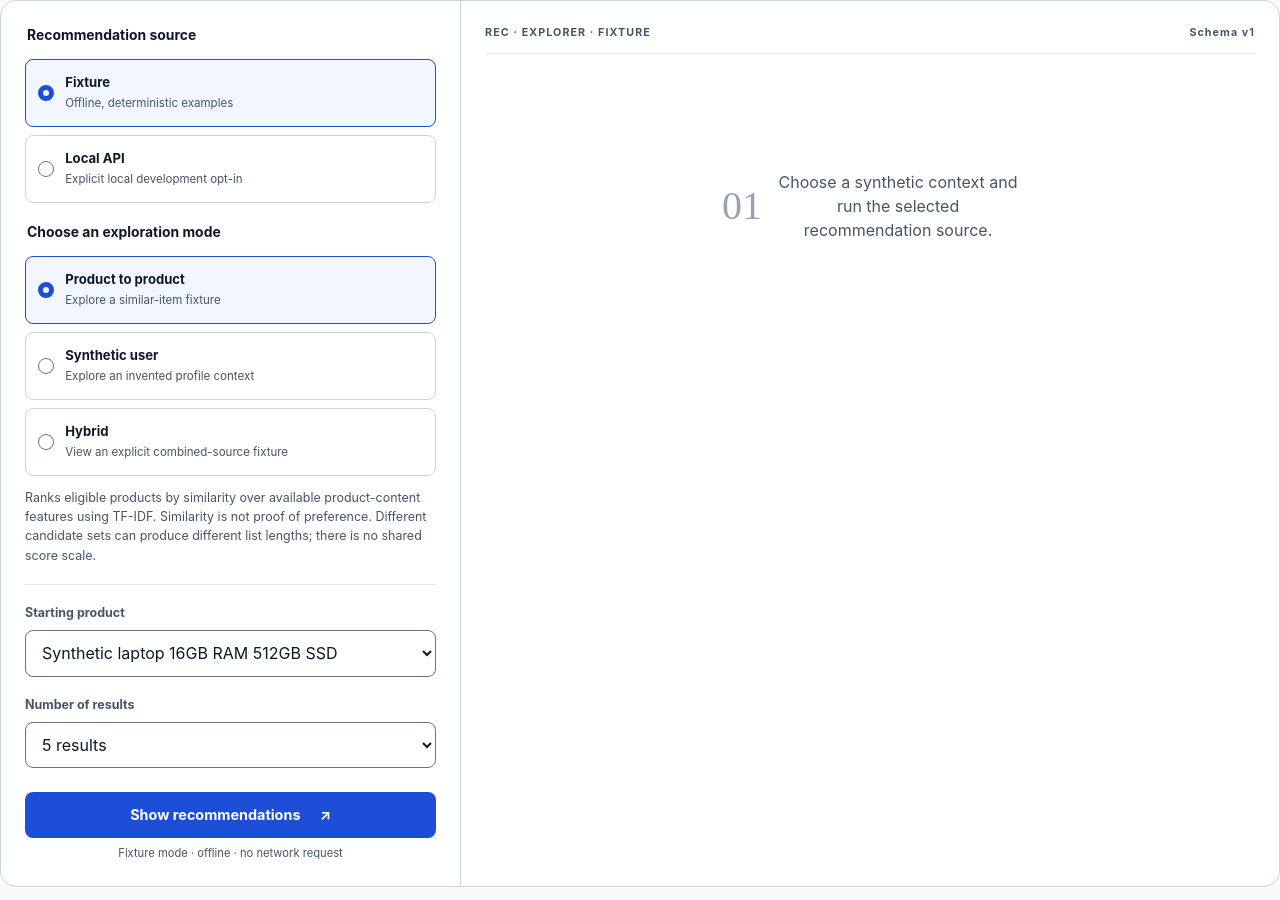
Test: recommendation explorer › explains hybrid candidate policies and keeps their stable IDs visible
The image size is (1280, 900).
Step 1. Click the radio button labelled "Hybrid View an explicit combined-source fixture" → (87, 431), box [25,408,436,476]
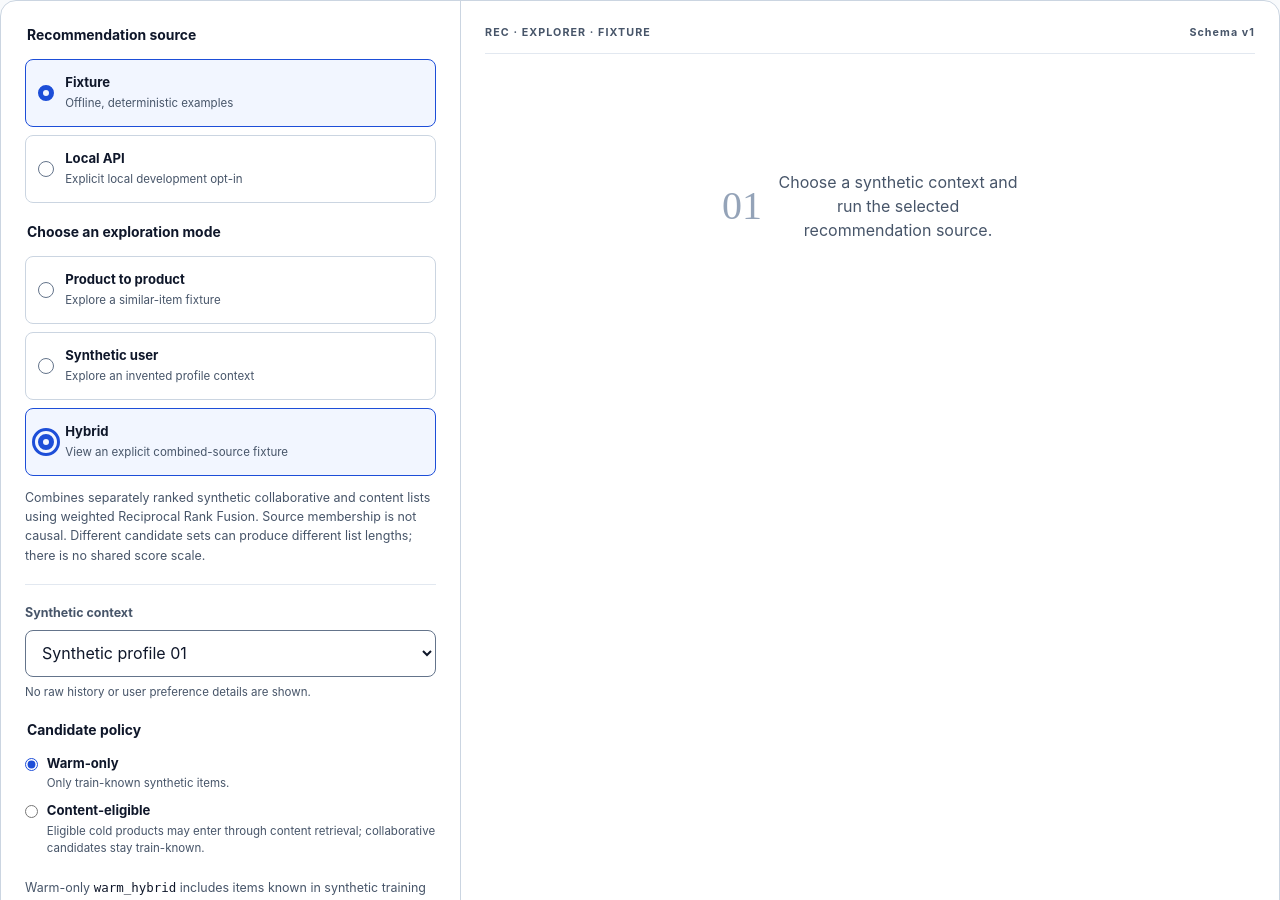
Expected: the text "Warm-only" is shown, [47,755,119,771]
Expected: the text "warm_hybrid" is shown, [94,880,176,895]
Expected: the text "Only train-known synthetic items." is shown, [47,775,229,792]
Step 2. Click the radio button labelled "Content-eligible" → (32, 812), box [25,805,38,818]
(page scrolled)
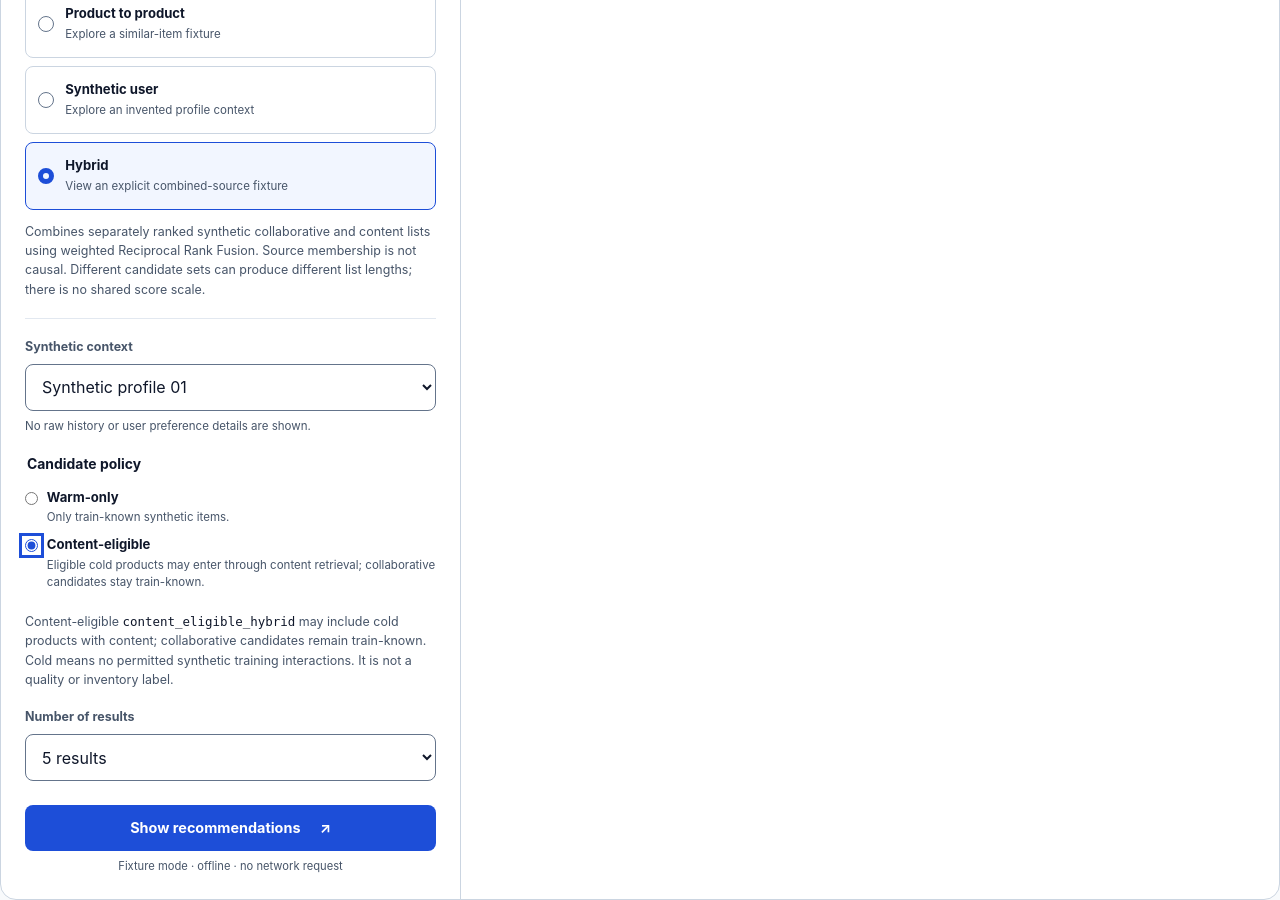
Expected: the text "Content-eligible" is shown, [47,536,150,552]
Expected: the text "not a quality or inventory label" is shown, [25,652,412,687]
Expected: the text "content_eligible_hybrid" is shown, [122,614,295,629]
